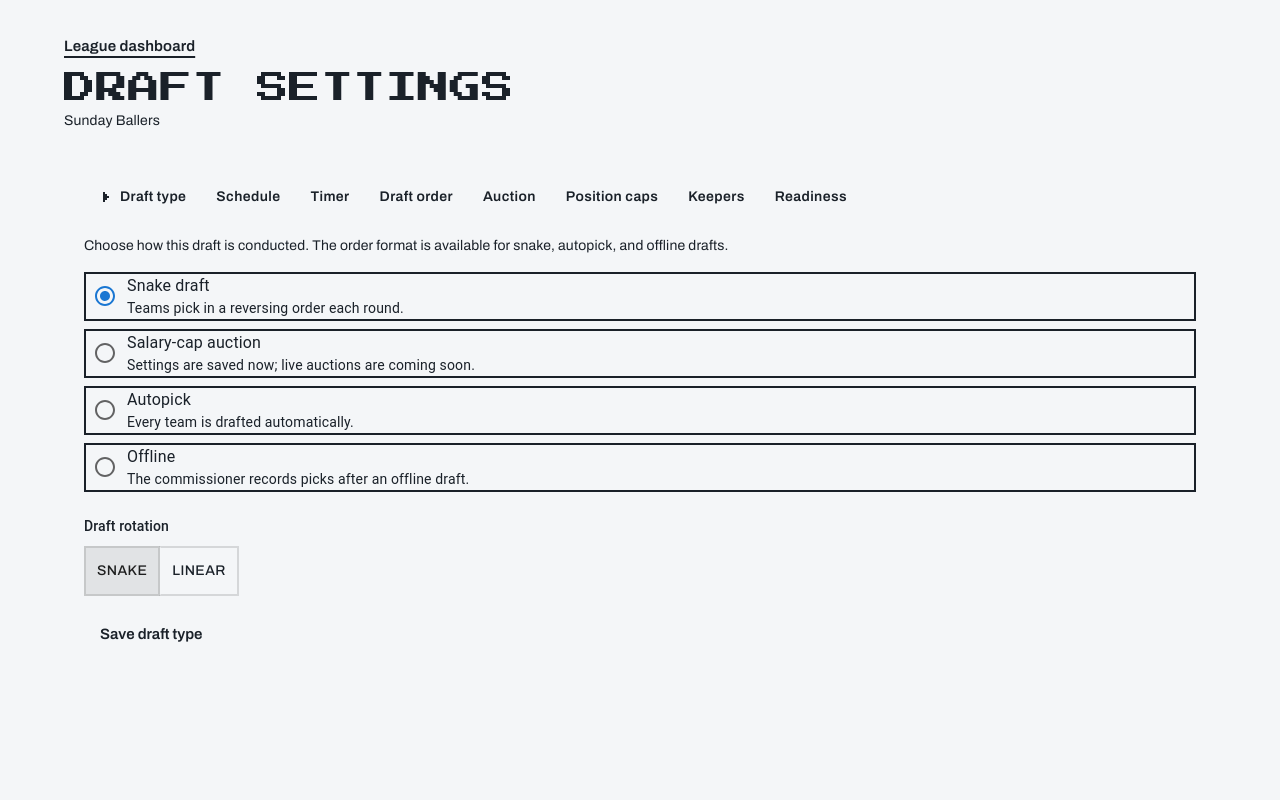
Test case: shows auction controls only for salary-cap auction drafts
Check: the text "Sunday Ballers" is shown, box [64, 113, 160, 128]
Click the tab "Auction" at [509, 197], box [467, 175, 552, 219]
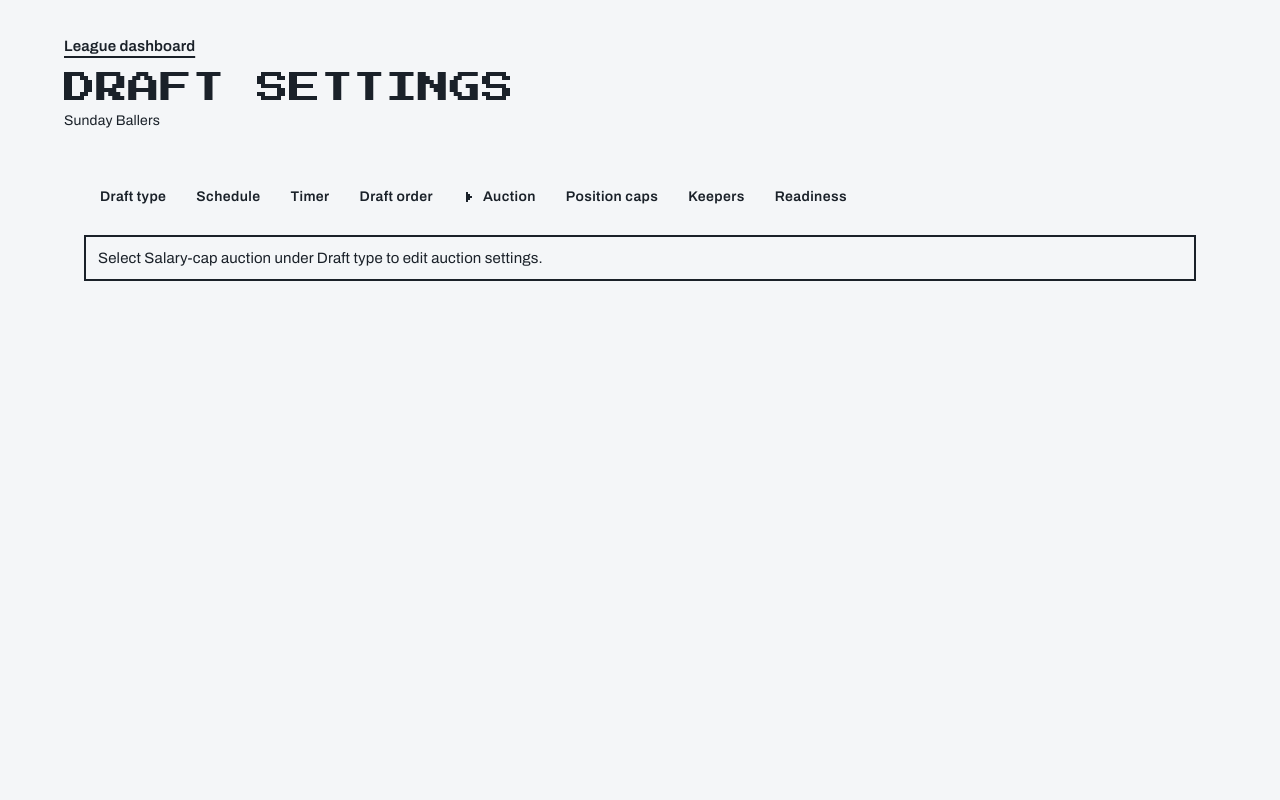
Check: the text "Select Salary-cap auction under Draft type to edit auction settings." is shown, box [84, 235, 1196, 281]
